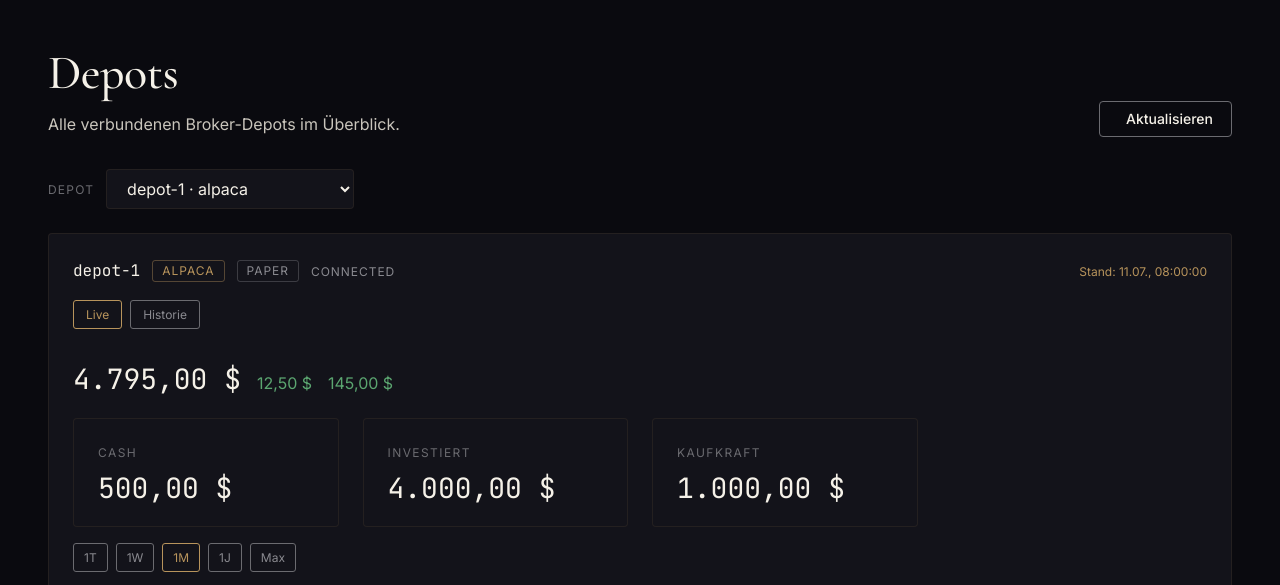
Test case: DepotsView › shows the selected depot cash and no cross-depot total
Expected: the text with test id "depots-total-cash" shows "500", [98,469,232,506]
Select "saxo-live-1 · alpaca · LIVE" in the dropdown with test id "depot-select" at (230, 189), box [106,169,354,209]
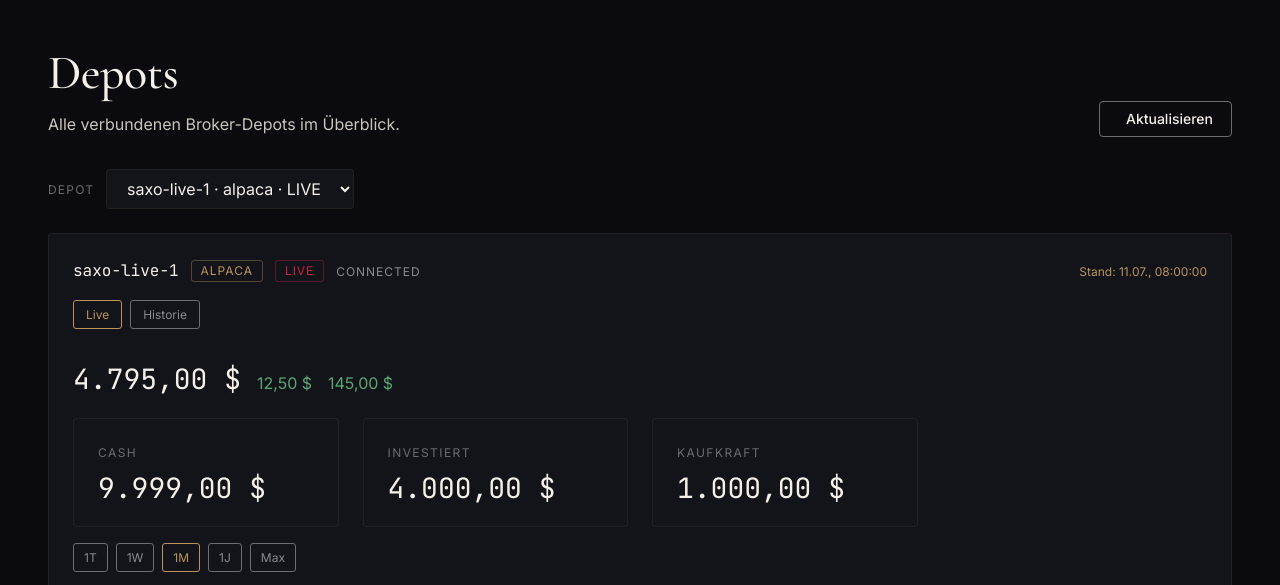
Now the text with test id "depots-total-cash" shows "9.999", box [98,469,266,506]
